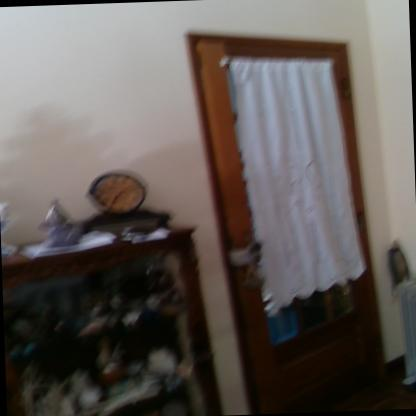closed: (178, 19, 381, 416)
